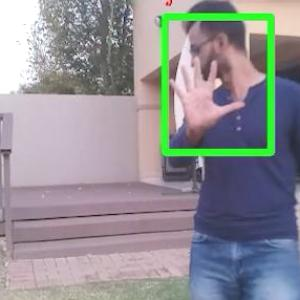follow_hand: (164, 52, 246, 134)
